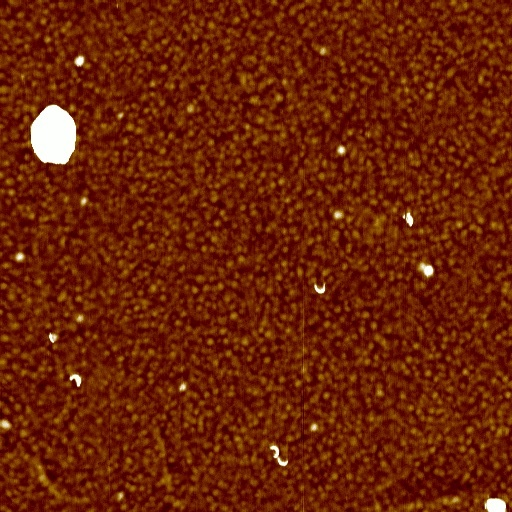-1: (27, 104, 79, 168), (481, 497, 509, 510), (419, 262, 439, 278), (402, 211, 417, 229), (71, 55, 84, 69), (47, 332, 58, 345)
2/4: (67, 374, 85, 391), (275, 455, 291, 472), (267, 441, 281, 460), (312, 281, 327, 295)
